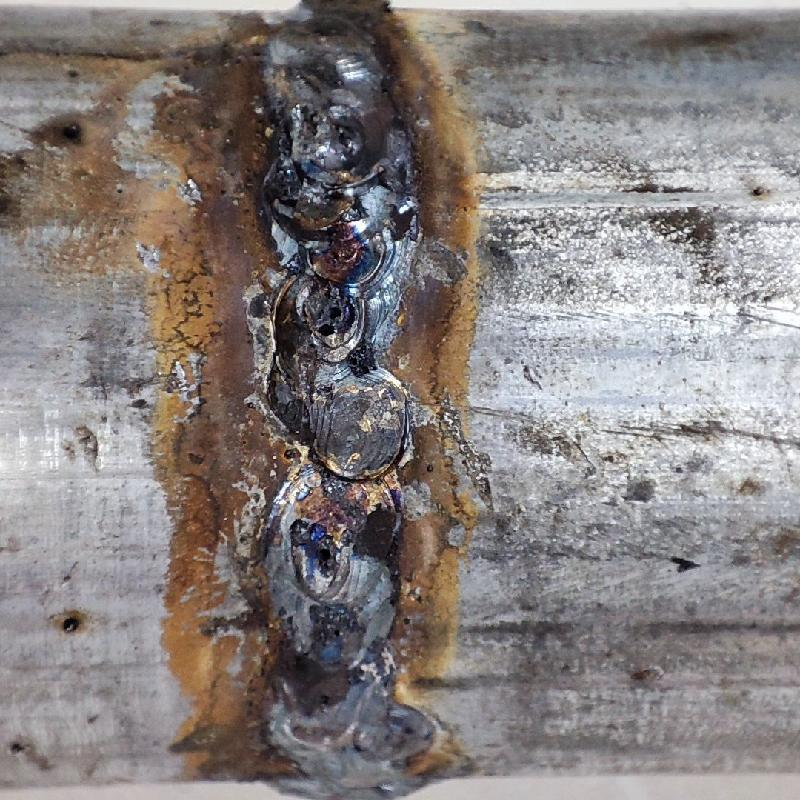Surface_pores: (296, 297, 361, 343)
crater: (275, 103, 413, 772)
wrong_size: (254, 6, 386, 100)
